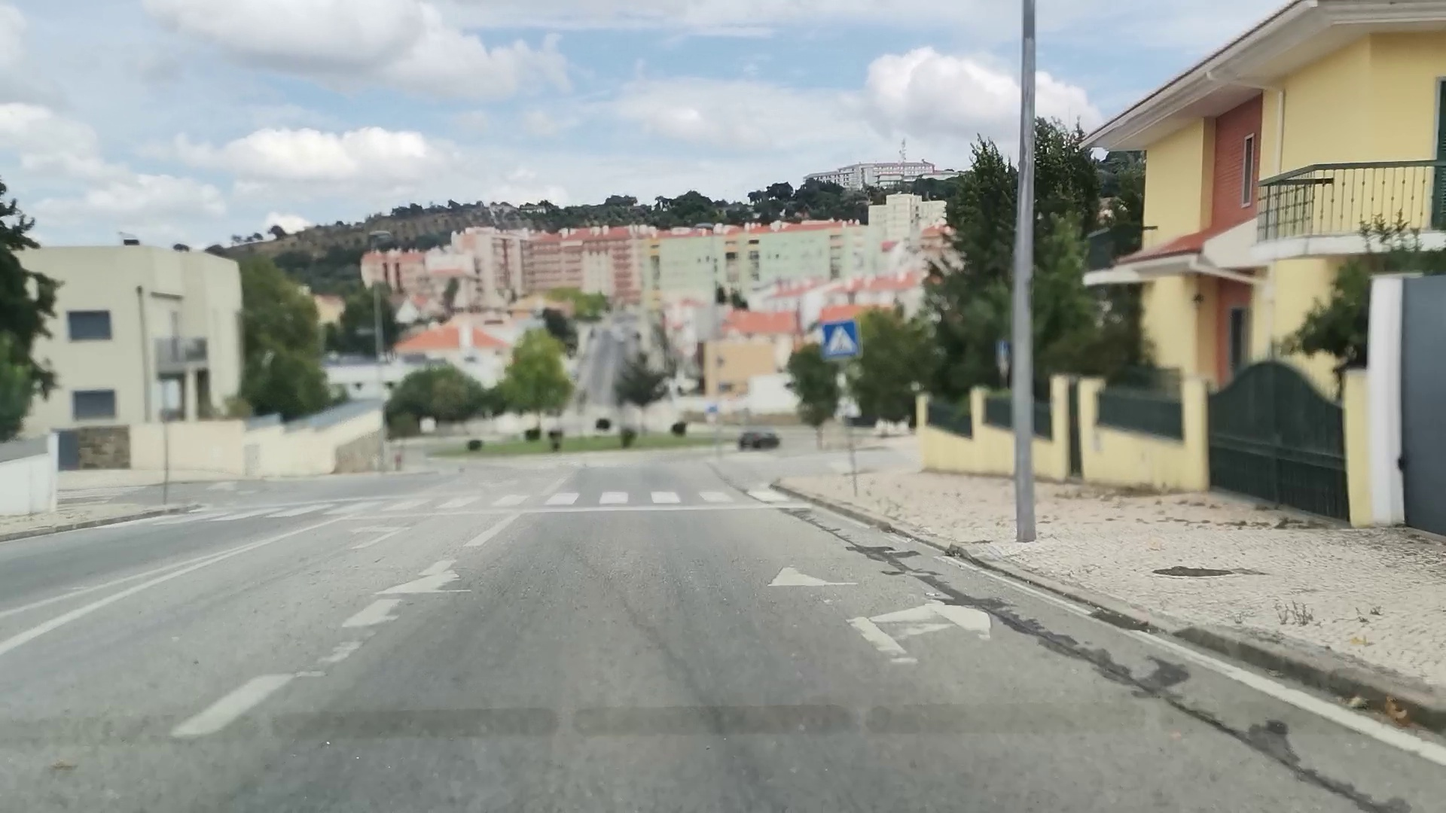Stairs: (139, 486, 796, 521)
